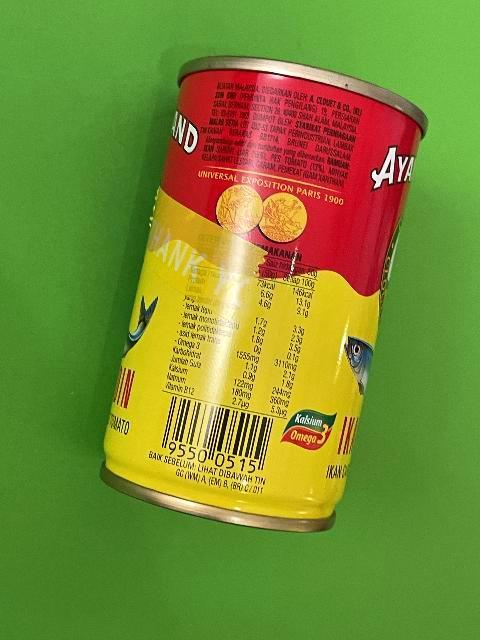foodcan: (98, 54, 428, 534)
